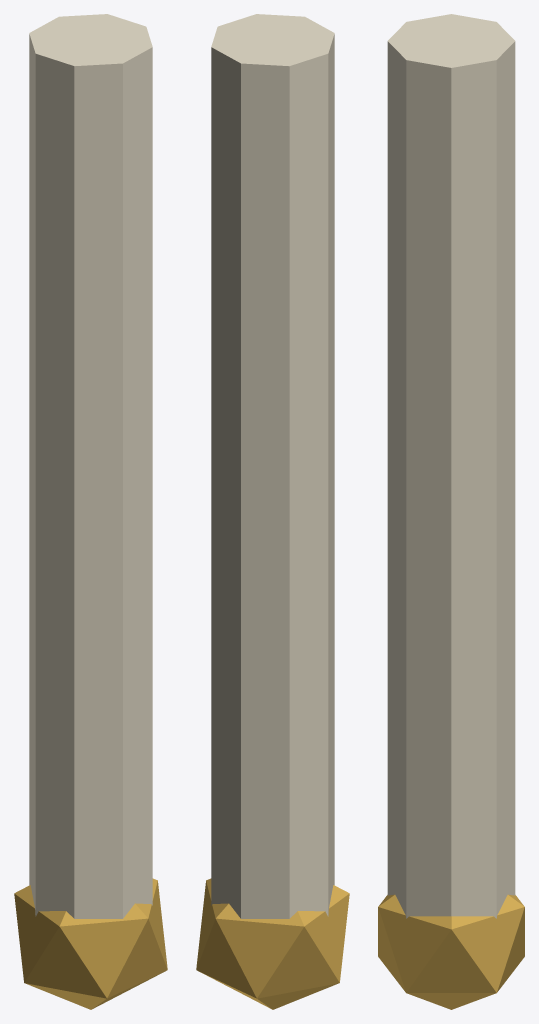
Rendered from wk_skeleton_pelvis_v01.glb.
The picture shows the model from 3 angles, left to right: view 1: azimuth 30°, elevation 25°; view 2: azimuth 150°, elevation 25°; view 3: azimuth 270°, elevation 25°; orthographic projection.
Visible parts, largest first — view 1: GEO_Skeleton_pelvis, GEO_Skeleton_pelvis_Joint; view 2: GEO_Skeleton_pelvis, GEO_Skeleton_pelvis_Joint; view 3: GEO_Skeleton_pelvis, GEO_Skeleton_pelvis_Joint.
Part boxes in pixels (x1,y1,x2,y2): GEO_Skeleton_pelvis: (29,14,152,918); GEO_Skeleton_pelvis_Joint: (14,878,167,1009); GEO_Skeleton_pelvis: (211,14,334,918); GEO_Skeleton_pelvis_Joint: (196,878,349,1009); GEO_Skeleton_pelvis: (387,14,515,918); GEO_Skeleton_pelvis_Joint: (378,894,524,1009).
Size of the model in its own units: 0.157 by 1.09 by 0.1493.
